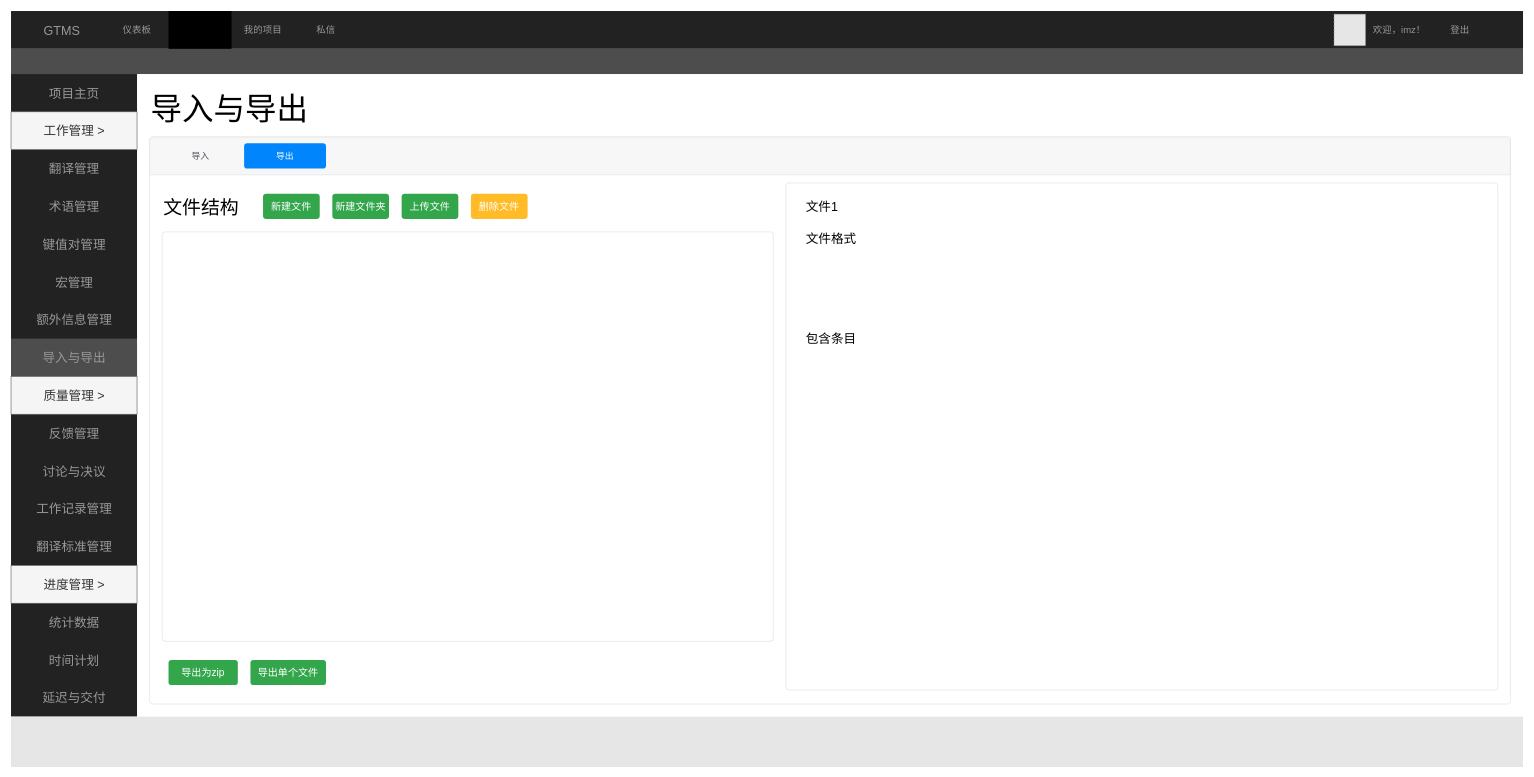
The diagram is 1534 pixels wide and 777 high, and some of its shapes have lost their labels. Grey dashed boxes stand in for pictures. The shapes that lost their labels are listed below. From the top down, each one's centre as x and y in pixels, then its label:
At point (199, 30): "项目浏览".
At point (767, 61): "示例中文化项目01 / 导入与导出".
At point (767, 741): "Yifan Xu 毕业设计 @天津工业大学".
